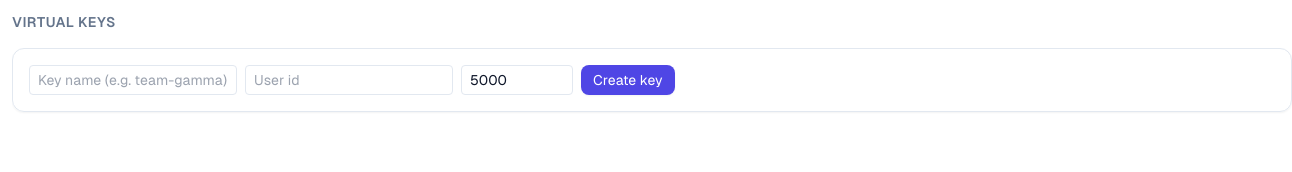
it: VirtualKeyPane › shows an error message when creation fails
Type "team-gamma" into the field with placeholder "Key name (e.g. team-gamma)" at [133, 80], box [29,65,237,95]
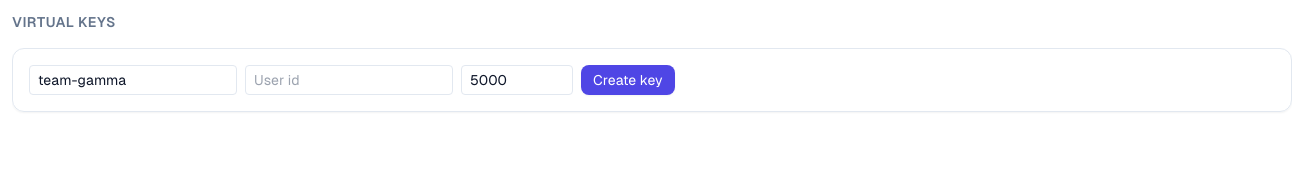
Type "team-gamma" into the field with placeholder "User id" at [349, 80], box [245,65,453,95]
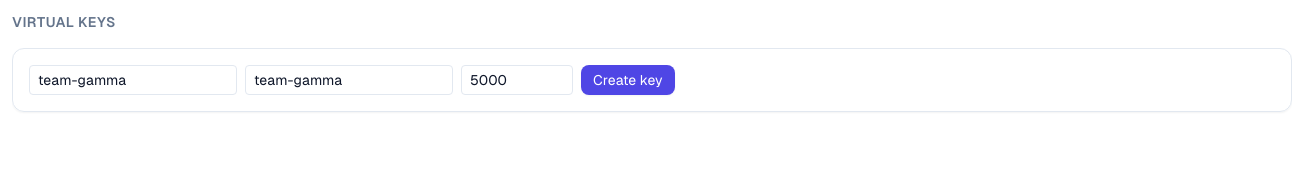
Click the button "Create key" at [628, 80], box [581,65,674,95]
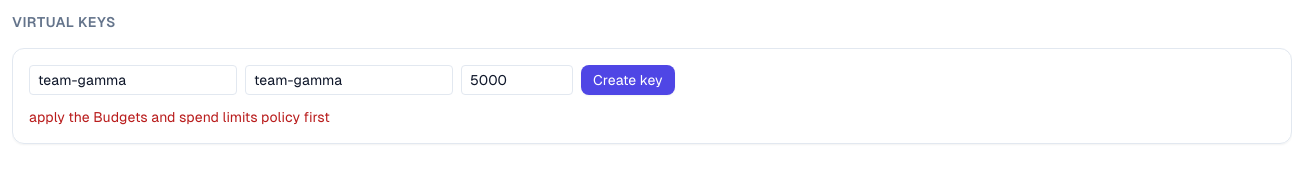
Now the text "apply the Budgets and spend limits policy first" is shown, box [29,109,330,125]
